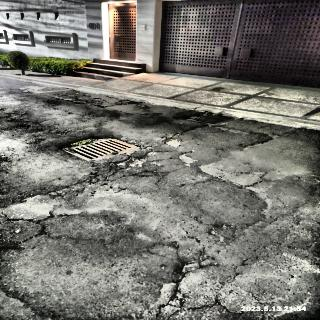crack: (146, 256, 234, 320), (4, 203, 74, 245), (79, 160, 153, 194)
